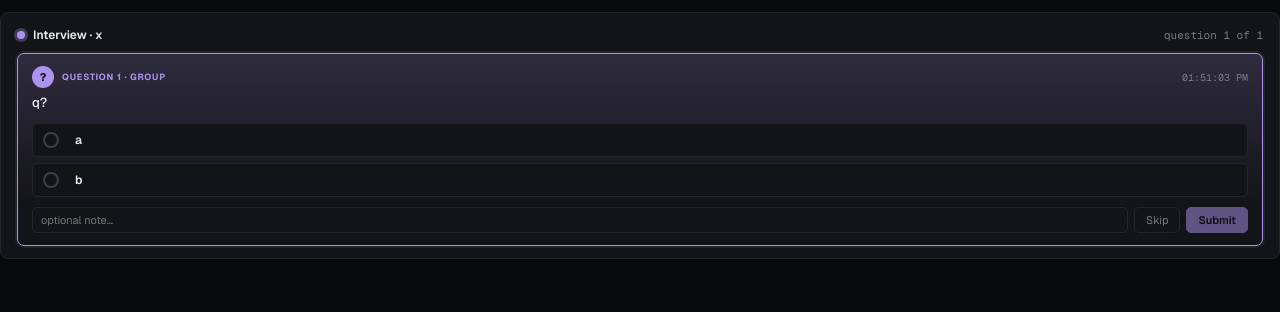
it: PrereqInterview › surfaces an inline error when submitCliAnswer rejects
Click the radio button labelled "a". click: (51, 140)
box: [32, 123, 1248, 157]
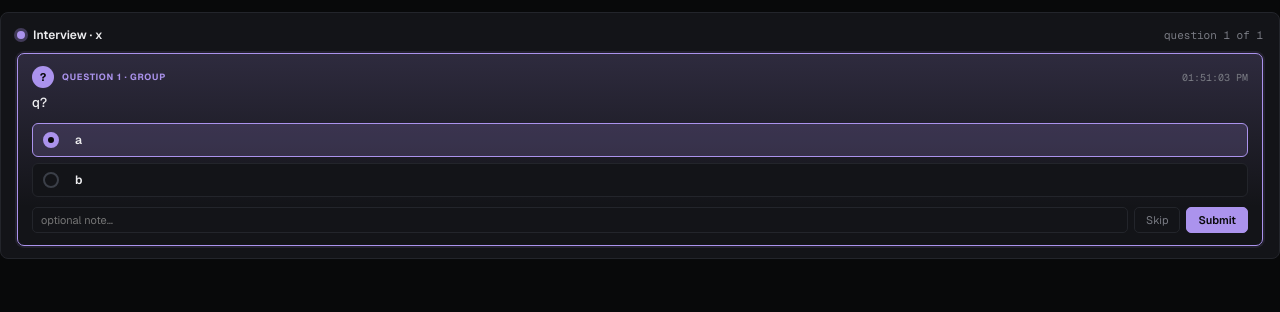
Click the button "Submit". click: (1217, 220)
box: [1186, 207, 1248, 233]
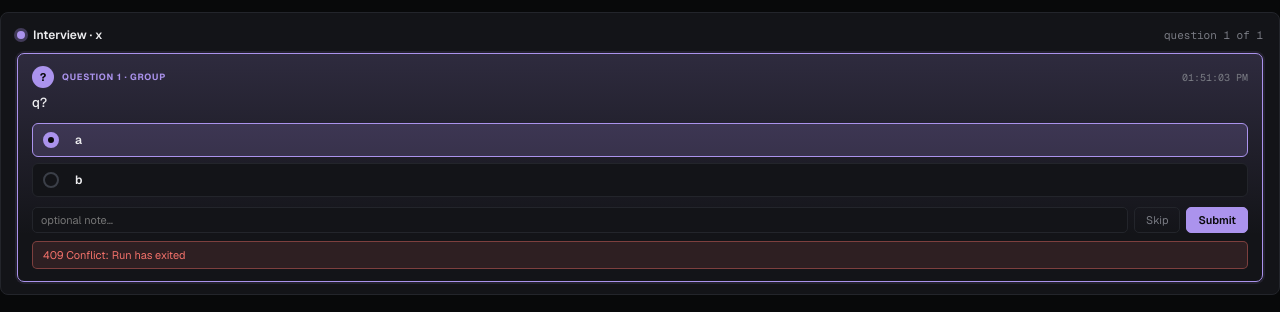
expect the message shows "Run has exited": met, box [43, 248, 186, 262]
